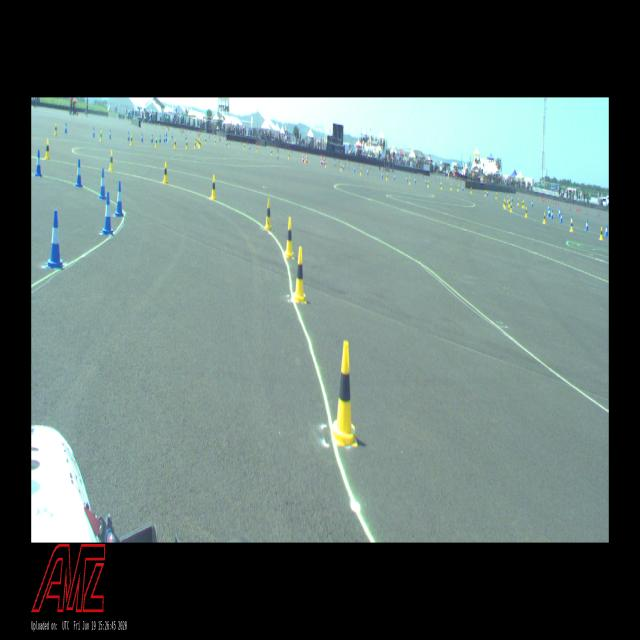blue_cone: (46, 210, 65, 269), (102, 192, 114, 236), (115, 181, 124, 217), (98, 168, 106, 200), (75, 159, 83, 187), (35, 150, 42, 177), (604, 224, 608, 237), (585, 220, 588, 231), (92, 127, 95, 137), (547, 209, 550, 217), (65, 123, 67, 133), (551, 210, 553, 219), (560, 213, 562, 222), (558, 208, 560, 217), (142, 133, 144, 142), (109, 130, 111, 139), (159, 134, 161, 143), (128, 132, 130, 140), (151, 134, 153, 142), (414, 176, 416, 184), (531, 200, 533, 207), (406, 175, 408, 182), (185, 134, 187, 141), (353, 165, 355, 172), (381, 171, 383, 178), (511, 195, 513, 202), (171, 132, 173, 138), (166, 132, 167, 142), (164, 134, 165, 143), (367, 168, 368, 176), (343, 163, 344, 170), (425, 178, 426, 184), (394, 174, 395, 180)
yellow_cone: (332, 341, 358, 446), (293, 247, 307, 303), (284, 217, 294, 257), (264, 199, 272, 230), (210, 175, 217, 200), (163, 161, 168, 184), (109, 150, 114, 171), (45, 139, 50, 159), (600, 227, 604, 240), (54, 124, 58, 135), (570, 220, 573, 232), (543, 212, 546, 223), (130, 135, 133, 145), (185, 140, 188, 149), (510, 203, 513, 212), (194, 140, 197, 149), (100, 130, 102, 142), (508, 199, 511, 207), (155, 137, 157, 148), (525, 207, 527, 218), (174, 139, 176, 149), (504, 200, 506, 209), (495, 192, 497, 200), (360, 168, 362, 176), (517, 198, 519, 205), (507, 195, 509, 202), (427, 181, 429, 188), (522, 201, 524, 208), (484, 190, 486, 197), (386, 173, 388, 180), (470, 187, 472, 194), (199, 141, 201, 148), (340, 164, 342, 171), (450, 184, 452, 190), (457, 185, 459, 191), (195, 137, 197, 143), (503, 198, 504, 207), (409, 178, 410, 185), (441, 183, 442, 189)
